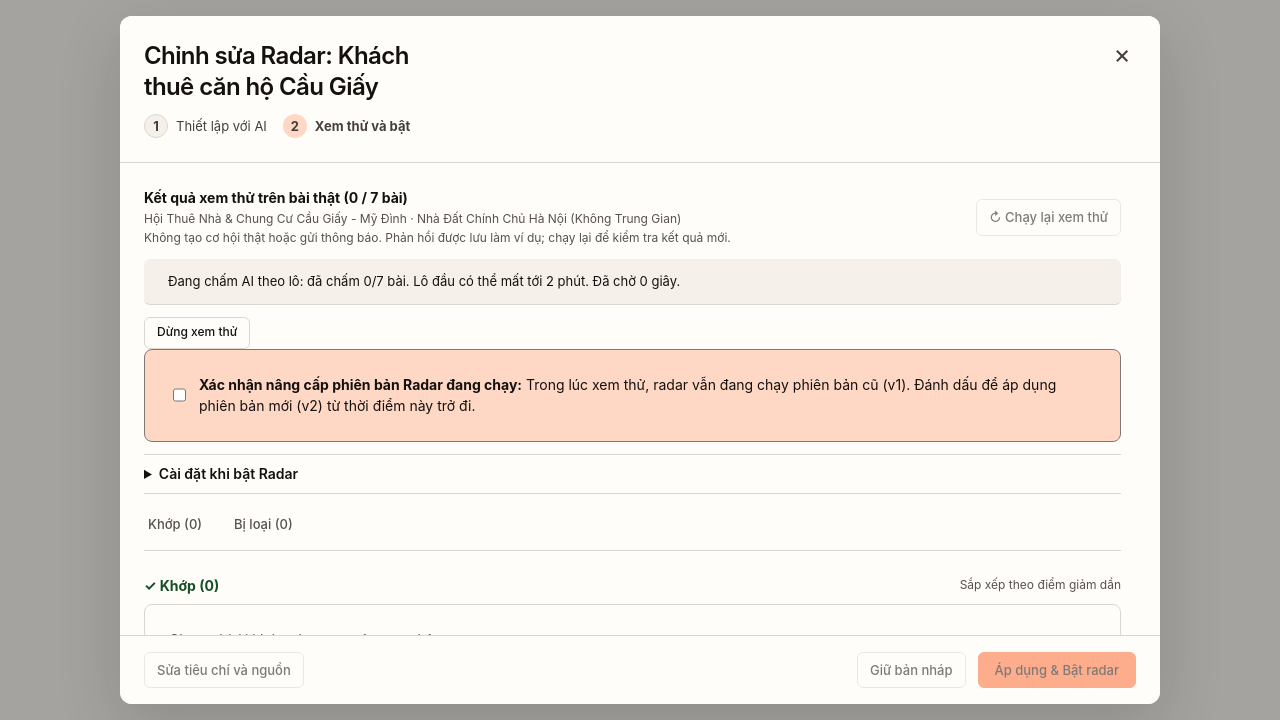
Test case: Radar preview lifecycle › stops the backend preview and restores actions
Click the button "Dừng xem thử" at point(197, 333), box [144,317,250,349]
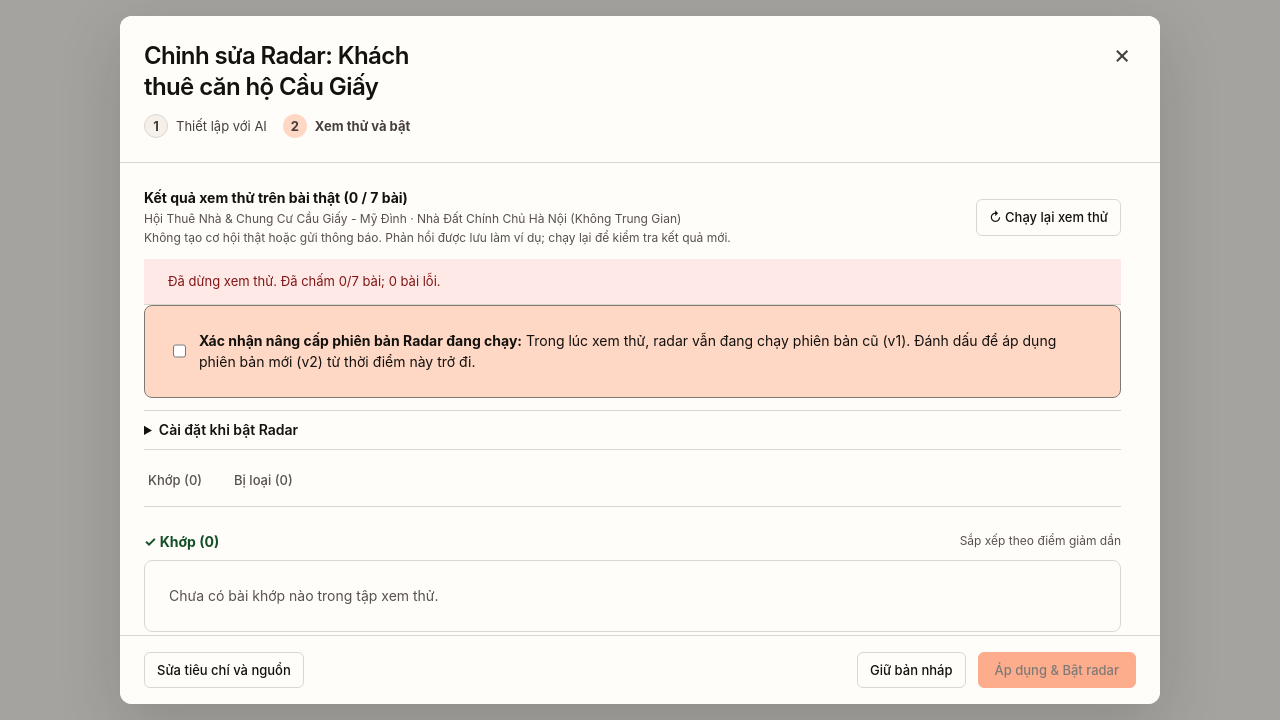
Result: the message shows "Đã dừng xem thử." at [168,273,277,289]
Result: the button "↻ Chạy lại xem thử" is enabled at [976,199,1121,236]
